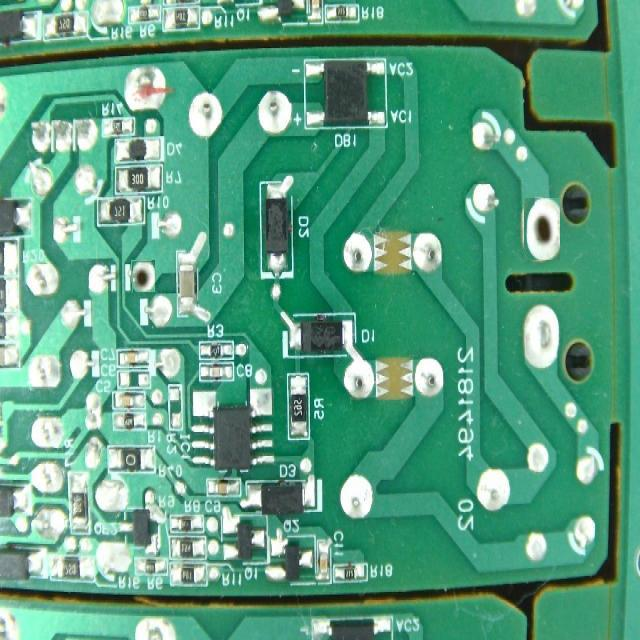damged: (524, 198, 560, 260), (132, 260, 156, 292)
